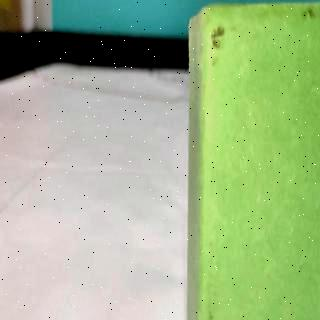greenbox: (186, 4, 320, 320)
